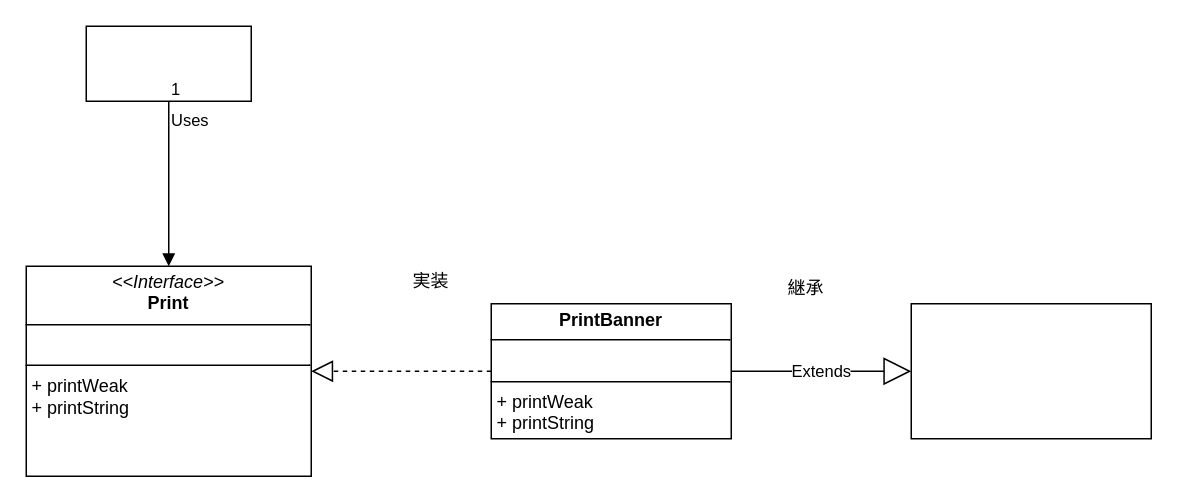
Some shapes in this 1178 by 503 pixel diagram are drawn without their labels. The centre of each missing label's shape, as x and y in pixels:
Banner + showWithParen + showWithAster: (1030,370)
Main: (168,63)
